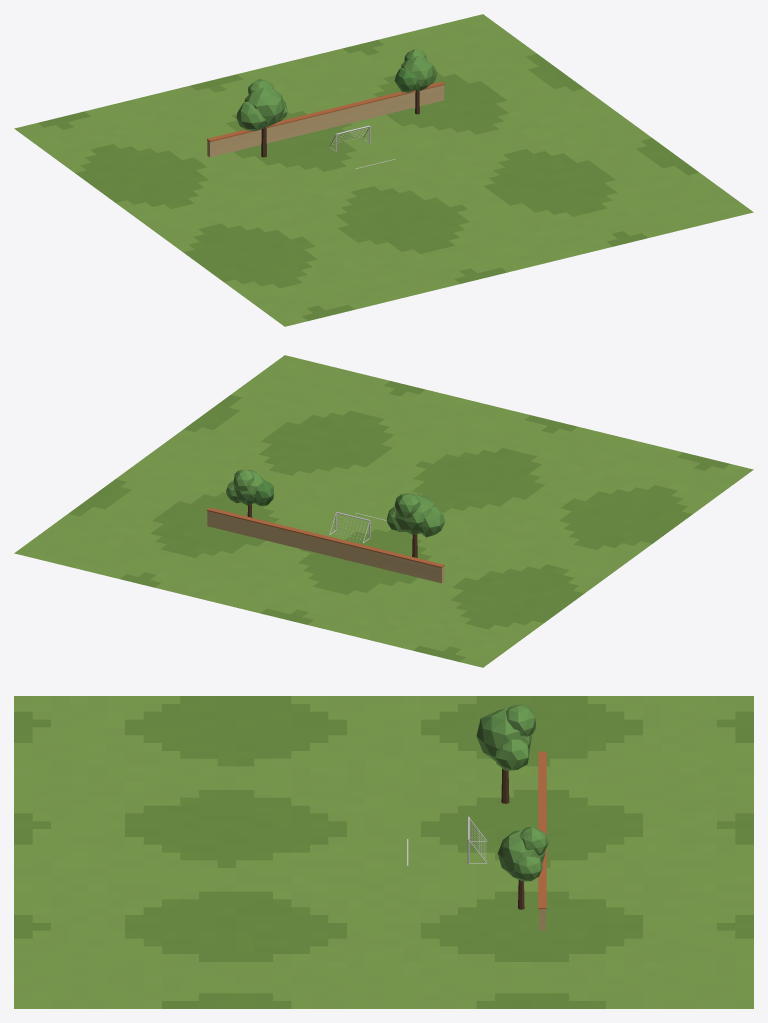
The model's file is playground.glb.
3 renders of one model, top to bottom at view 1: azimuth 30°, elevation 25°; view 2: azimuth 150°, elevation 25°; view 3: azimuth 270°, elevation 25°, orthographic. The views are drawn at different scales.
Visible parts, largest first — view 1: playground; view 2: playground; view 3: playground.
Boxes of the visible parts, box(x1,y1,x2,y2) form: playground: box(14, 14, 753, 326); playground: box(14, 355, 753, 667); playground: box(14, 696, 753, 1008).
Bounding box in the file's own units: 28 × 4.09 × 28.
